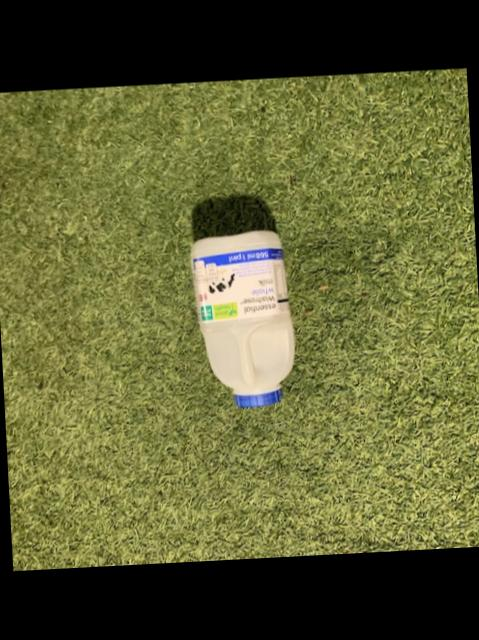plastic: (192, 230, 295, 406)
